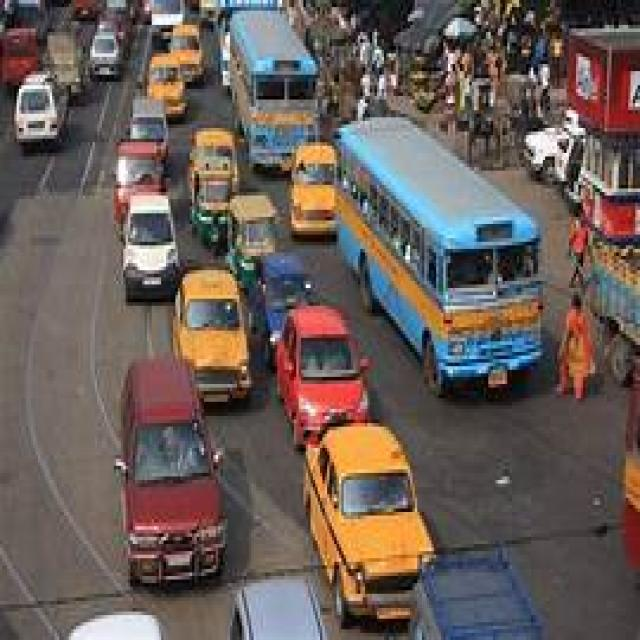Auto: (193, 159, 277, 280)
Bus: (340, 118, 541, 389), (231, 11, 317, 168)
Car: (260, 255, 434, 622), (115, 139, 250, 582), (291, 144, 335, 235)
